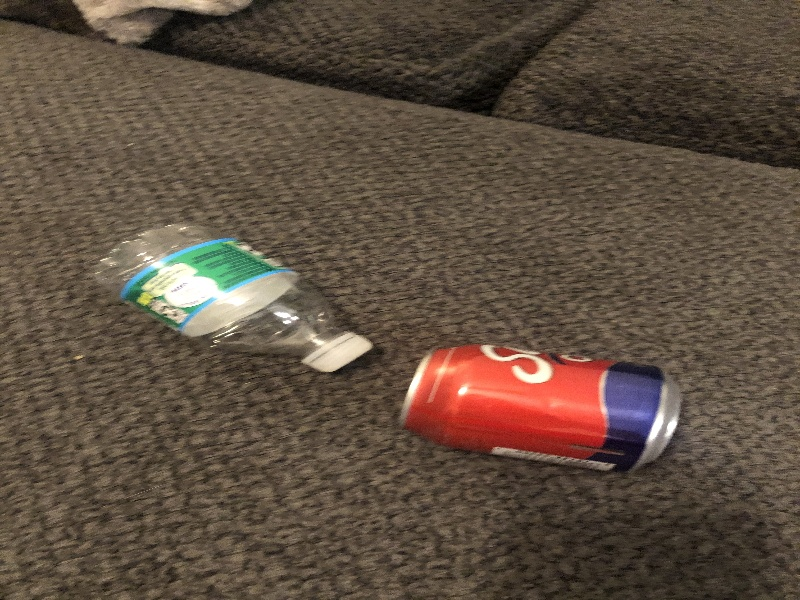metal: (394, 341, 687, 481)
plastic: (89, 217, 385, 382)
